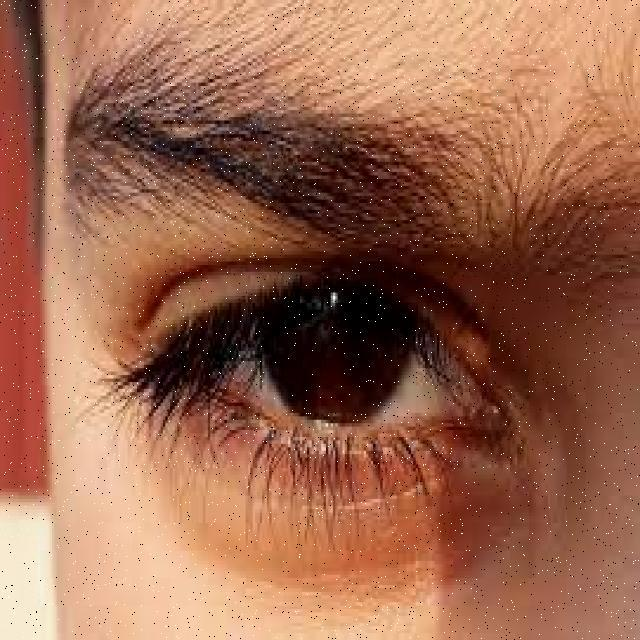Normal: (86, 207, 584, 541)
